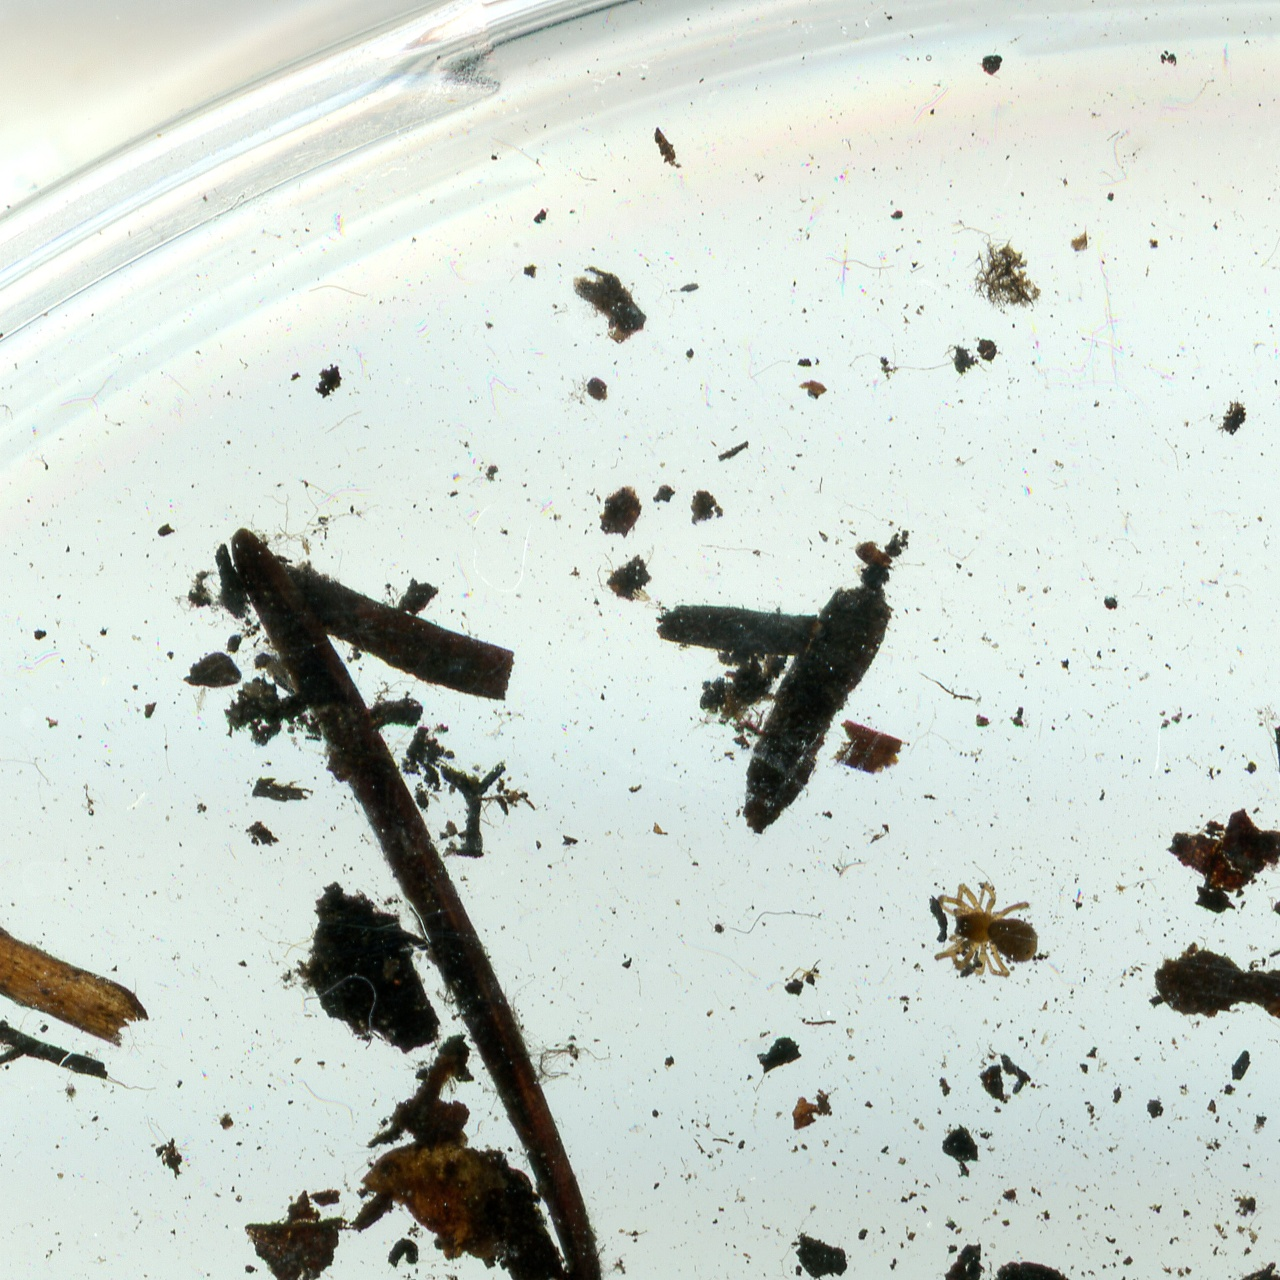arthropod: (933, 883, 1040, 978)
